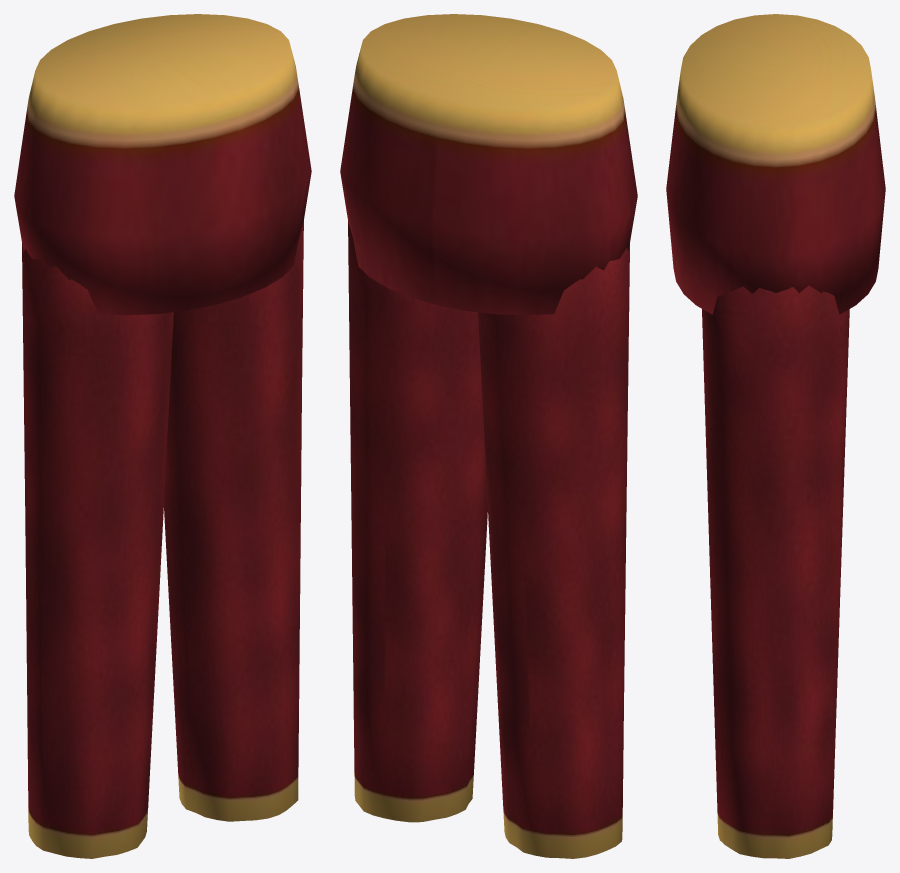
File: crimson_pants_legs.glb
3 renders of one model, left to right at view 1: azimuth 30°, elevation 25°; view 2: azimuth 150°, elevation 25°; view 3: azimuth 270°, elevation 25°, orthographic. The views are drawn at different scales.
Visible parts, largest first — view 1: crimson_pants_legs; view 2: crimson_pants_legs; view 3: crimson_pants_legs.
Boxes of the visible parts, x1=… form: crimson_pants_legs: x1=14, y1=14, x2=311, y2=858; crimson_pants_legs: x1=340, y1=14, x2=637, y2=858; crimson_pants_legs: x1=666, y1=14, x2=885, y2=858.
Bounding box in the file's own units: 0.21 × 0.55 × 0.15.
Materials: 1 (1 with a texture image).
